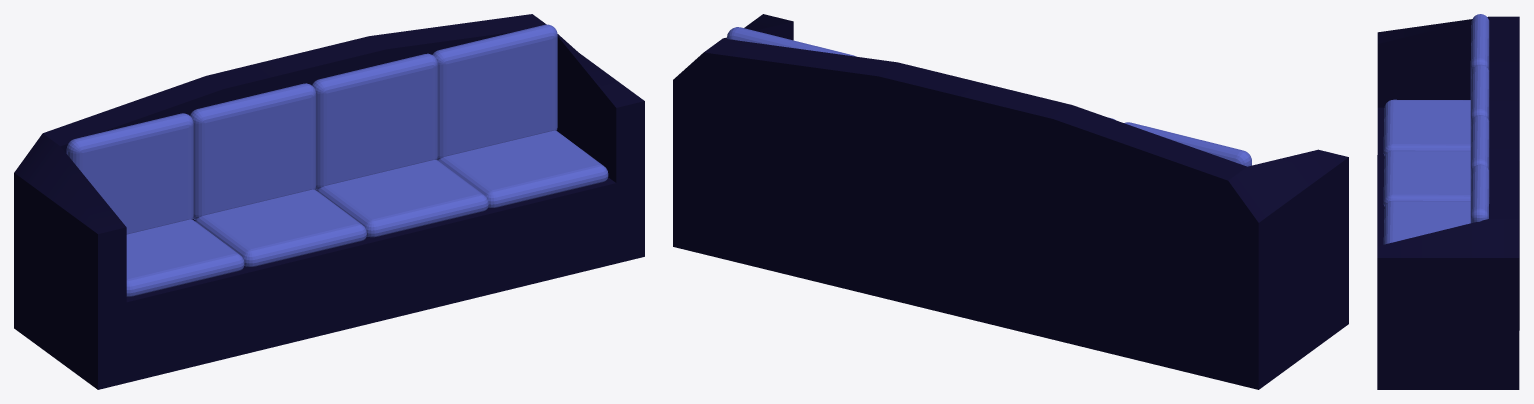
The model's file is livingroom_sofabig.fbx.
3 views of the same model, side by side, from view 1: azimuth 30°, elevation 25°; view 2: azimuth 150°, elevation 25°; view 3: azimuth 270°, elevation 25° (orthographic). The views are drawn at different scales.
Parts seen in each view (by area): view 1: sofa, cuchion_2_3, cuchion_2_4, cuchion_2_4_2, cuchion_2_2, cuchion_3, cuchion_4_2, cuchion_4, cuchion_2; view 2: sofa, cuchion_2_2, cuchion_2_4_2; view 3: sofa, cuchion_2, cuchion_3, cuchion_4_2, cuchion_2_4_2, cuchion_2_2, cuchion_2_3, cuchion_2_4.
Boxes of the visible parts, x1,y1,x2,y2 form: sofa: [14, 14, 644, 389]; cuchion_2_3: [190, 83, 316, 219]; cuchion_2_4: [312, 53, 437, 190]; cuchion_2_4_2: [432, 24, 557, 160]; cuchion_2_2: [66, 113, 193, 234]; cuchion_3: [195, 189, 366, 266]; cuchion_4_2: [317, 160, 488, 237]; cuchion_4: [437, 130, 608, 207]; cuchion_2: [126, 219, 244, 296]; sofa: [673, 14, 1348, 389]; cuchion_2_2: [1124, 122, 1251, 166]; cuchion_2_4_2: [727, 27, 855, 56]; sofa: [1377, 16, 1519, 389]; cuchion_2: [1383, 99, 1470, 156]; cuchion_3: [1383, 150, 1470, 206]; cuchion_4_2: [1383, 200, 1470, 244]; cuchion_2_4_2: [1470, 164, 1489, 223]; cuchion_2_2: [1470, 14, 1489, 110]; cuchion_2_3: [1470, 64, 1489, 160]; cuchion_2_4: [1470, 115, 1489, 210].
Bounding box in the file's own units: 239 × 85.91 × 63.69.
